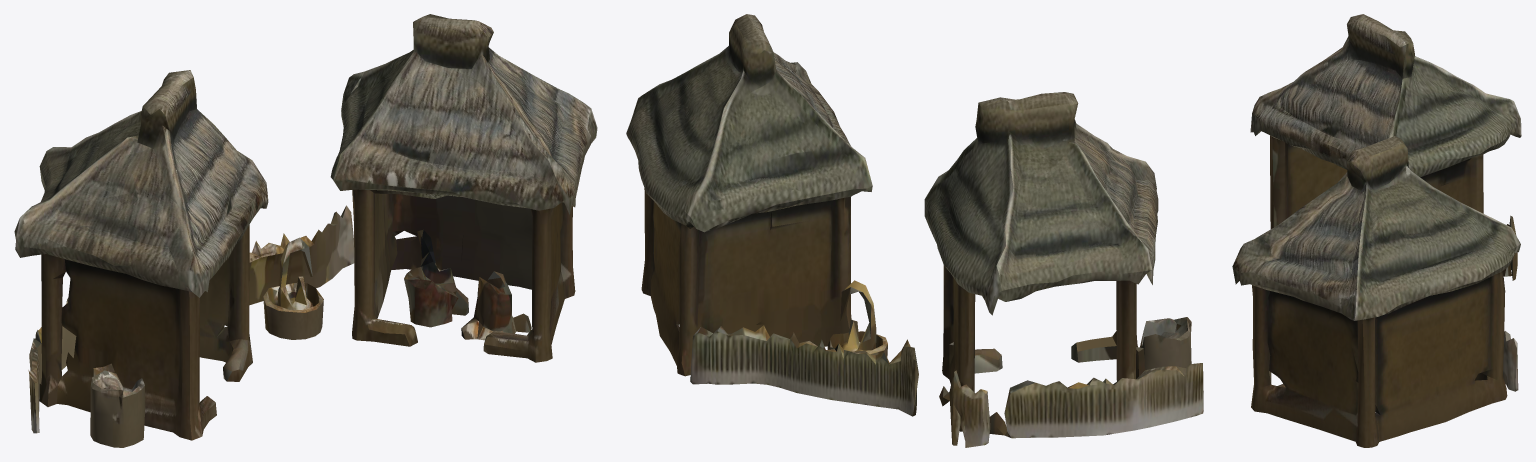
Rendered from palmares_mercado.glb.
3 renders of one model, left to right at view 1: azimuth 30°, elevation 25°; view 2: azimuth 150°, elevation 25°; view 3: azimuth 270°, elevation 25°, orthographic. The views are drawn at different scales.
Visible parts, largest first — view 1: geometry_0; view 2: geometry_0; view 3: geometry_0.
Boxes of the visible parts, x1,y1,x2,y2 form: geometry_0: (14, 14, 597, 447); geometry_0: (626, 14, 1203, 447); geometry_0: (1232, 14, 1521, 447).
Bounding box in the file's own units: 3.4 × 1.7 × 1.73.
Materials: 1 (1 with a texture image).
